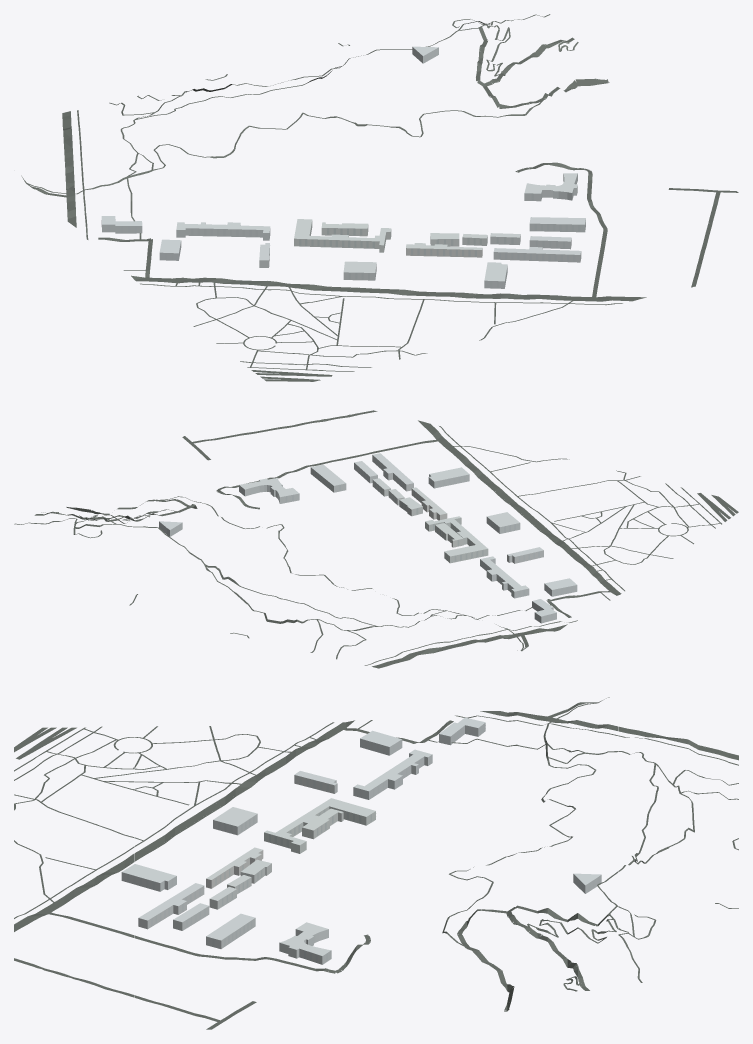
The picture shows the model from 3 angles, top to bottom: view 1: azimuth 30°, elevation 25°; view 2: azimuth 150°, elevation 25°; view 3: azimuth 270°, elevation 25°; orthographic projection. The views are drawn at different scales.
Visible parts, largest first — view 1: osm-roads, osm-building-473915925, osm-building-473915907, osm-building-473915894, osm-building-1447879199, osm-building-473915898, osm-building-570464697, osm-building-473915923, osm-building-471449753; view 2: osm-roads, osm-building-473915925, osm-building-1447879199, osm-building-473915907, osm-building-473915894, osm-building-473915893, osm-building-570464697, osm-building-473915923, osm-building-473915898, osm-building-473915905, osm-building-471449753; view 3: osm-roads, osm-building-473915925, osm-building-473915907, osm-building-1447879199, osm-building-473915894, osm-building-473915893, osm-building-570464697, osm-building-473915923, osm-building-473915898, osm-building-471449753, osm-building-473915905, osm-building-473915928 (+2 smaller).
Part boxes in pixels (x1,y1,x2,y2): osm-roads: (21, 14, 738, 381); osm-building-473915925: (294, 219, 391, 252); osm-building-473915907: (176, 222, 270, 240); osm-building-473915894: (493, 247, 581, 262); osm-building-1447879199: (524, 173, 577, 201); osm-building-473915898: (406, 243, 482, 257); osm-building-570464697: (529, 217, 585, 232); osm-building-473915923: (343, 261, 376, 280); osm-building-471449753: (101, 216, 142, 233); osm-roads: (14, 410, 738, 668); osm-building-473915925: (425, 516, 488, 563); osm-building-1447879199: (239, 478, 299, 503); osm-building-473915907: (480, 556, 529, 598); osm-building-473915894: (372, 453, 413, 491); osm-building-473915893: (428, 467, 469, 488); osm-building-570464697: (310, 464, 346, 492); osm-building-473915923: (486, 512, 520, 533); osm-building-473915898: (411, 487, 447, 520); osm-building-473915905: (544, 578, 577, 596); osm-building-471449753: (532, 599, 556, 623); osm-roads: (14, 697, 738, 1029); osm-building-473915925: (264, 798, 375, 853); osm-building-473915907: (353, 749, 432, 799); osm-building-1447879199: (279, 922, 331, 964); osm-building-473915894: (138, 883, 204, 929); osm-building-473915893: (121, 864, 176, 891); osm-building-570464697: (206, 913, 255, 948); osm-building-473915923: (213, 807, 257, 835); osm-building-473915898: (206, 847, 263, 888); osm-building-471449753: (439, 717, 485, 745); osm-building-473915905: (360, 730, 402, 755); osm-building-473915928: (302, 808, 343, 839).
Size of the model in its own units: 720 by 79.36 by 720.
7 materials, 1 textured.
